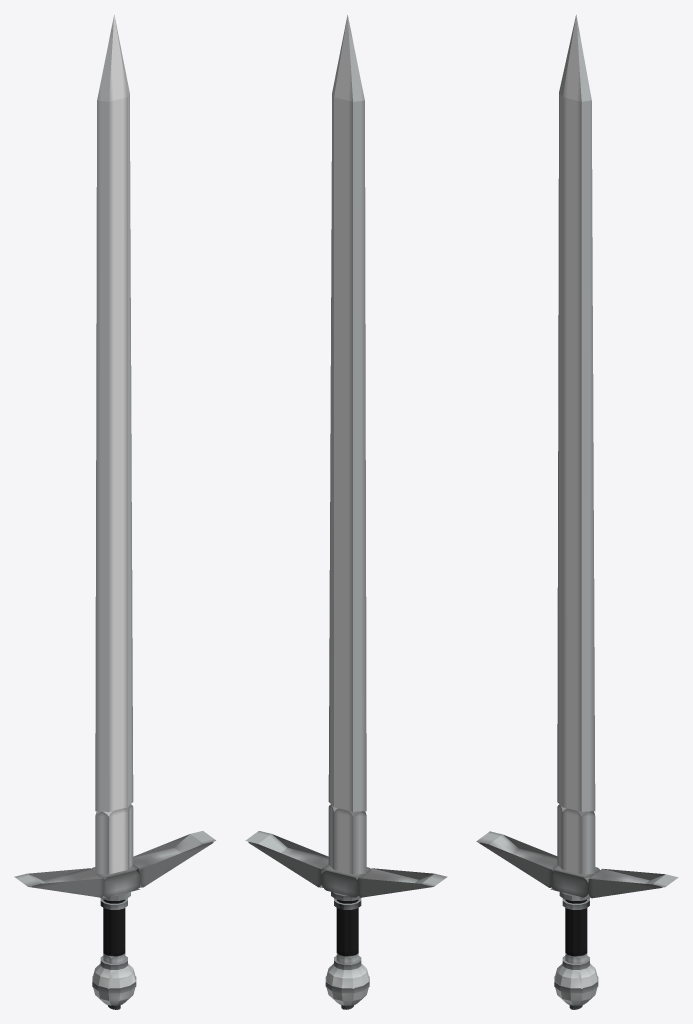
The model's file is basic_sword.fbx.
3 renders of one model, left to right at view 1: azimuth 30°, elevation 25°; view 2: azimuth 150°, elevation 25°; view 3: azimuth 330°, elevation 25°, orthographic.
Visible parts, largest first — view 1: cylinder.008, cylinder.007, cuboid.001, cuboid, Pommel.001, cylinder, cuboid.002; view 2: cylinder.008, cylinder.007, cuboid.001, cuboid, Pommel.001, cylinder, cuboid.002; view 3: cylinder.008, cylinder.007, cuboid, cuboid.001, Pommel.001, cylinder, cuboid.002.
Boxes of the visible parts, x1=… form: cylinder.008: x1=95, y1=15, x2=133, y2=811; cylinder.007: x1=95, y1=804, x2=133, y2=879; cuboid.001: x1=133, y1=831, x2=215, y2=887; cuboid: x1=14, y1=868, x2=104, y2=897; Pommel.001: x1=93, y1=963, x2=135, y2=1005; cylinder: x1=103, y1=899, x2=125, y2=956; cuboid.002: x1=91, y1=864, x2=140, y2=898; cylinder.008: x1=328, y1=15, x2=366, y2=811; cylinder.007: x1=328, y1=804, x2=366, y2=879; cuboid.001: x1=245, y1=831, x2=328, y2=887; cuboid: x1=357, y1=868, x2=447, y2=897; Pommel.001: x1=326, y1=963, x2=368, y2=1005; cylinder: x1=336, y1=899, x2=358, y2=956; cuboid.002: x1=321, y1=864, x2=371, y2=897; cylinder.008: x1=557, y1=15, x2=595, y2=811; cylinder.007: x1=557, y1=804, x2=595, y2=881; cuboid: x1=476, y1=831, x2=557, y2=888; cuboid.001: x1=588, y1=868, x2=678, y2=898; Pommel.001: x1=555, y1=963, x2=597, y2=1005; cylinder: x1=565, y1=899, x2=587, y2=956; cuboid.002: x1=550, y1=864, x2=599, y2=898.
Bounding box in the file's own units: 123 × 620 × 25.
Materials: 1 (1 with a texture image).
